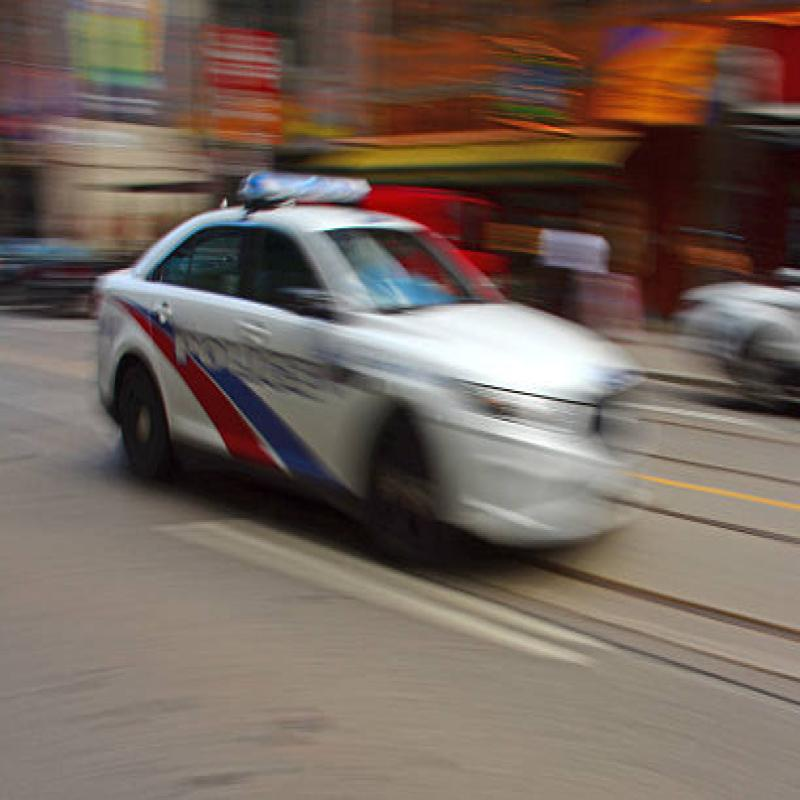AmbulanceSiren: (238, 157, 370, 212)
